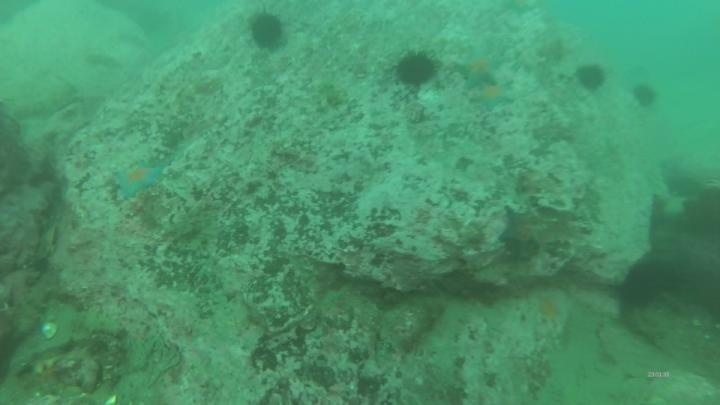echinus: (617, 256, 680, 311), (393, 49, 439, 88), (247, 11, 287, 52), (574, 62, 608, 93), (630, 82, 659, 110)
holothurian: (66, 304, 126, 342)
starfish: (497, 206, 546, 259), (453, 46, 504, 89), (112, 160, 166, 200), (529, 288, 570, 326), (469, 82, 516, 112)
